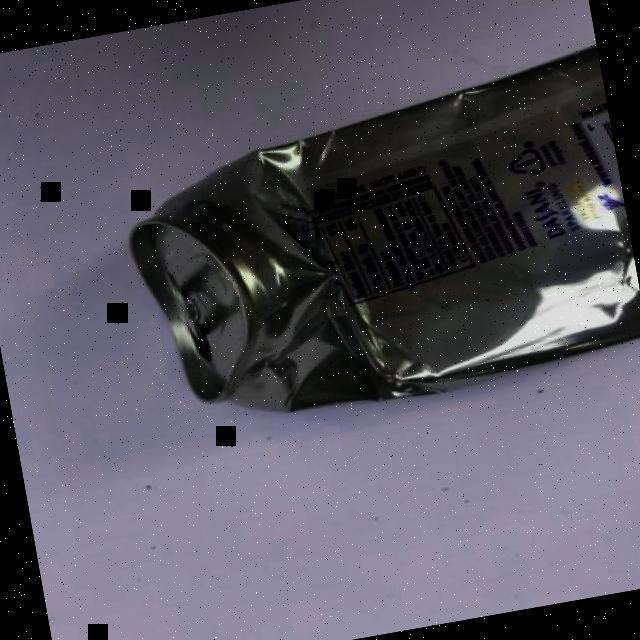can: (102, 43, 640, 440)
